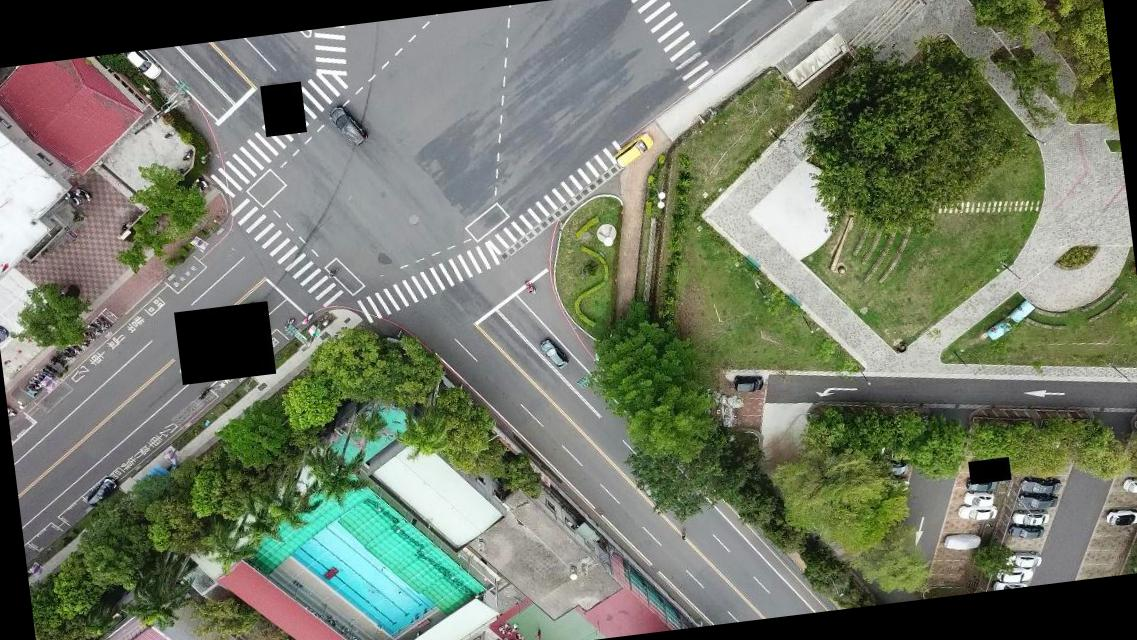vehicle: (330, 104, 368, 150), (610, 132, 656, 168), (124, 48, 164, 86), (539, 334, 572, 370), (84, 477, 120, 508), (1018, 474, 1062, 497), (957, 501, 1000, 523), (994, 563, 1034, 586), (1003, 549, 1044, 571), (1008, 507, 1050, 528), (1018, 490, 1058, 510), (1105, 505, 1136, 530), (1007, 521, 1045, 541), (732, 372, 765, 394), (963, 488, 996, 510), (964, 474, 998, 494), (882, 459, 910, 476), (1121, 475, 1136, 496)
